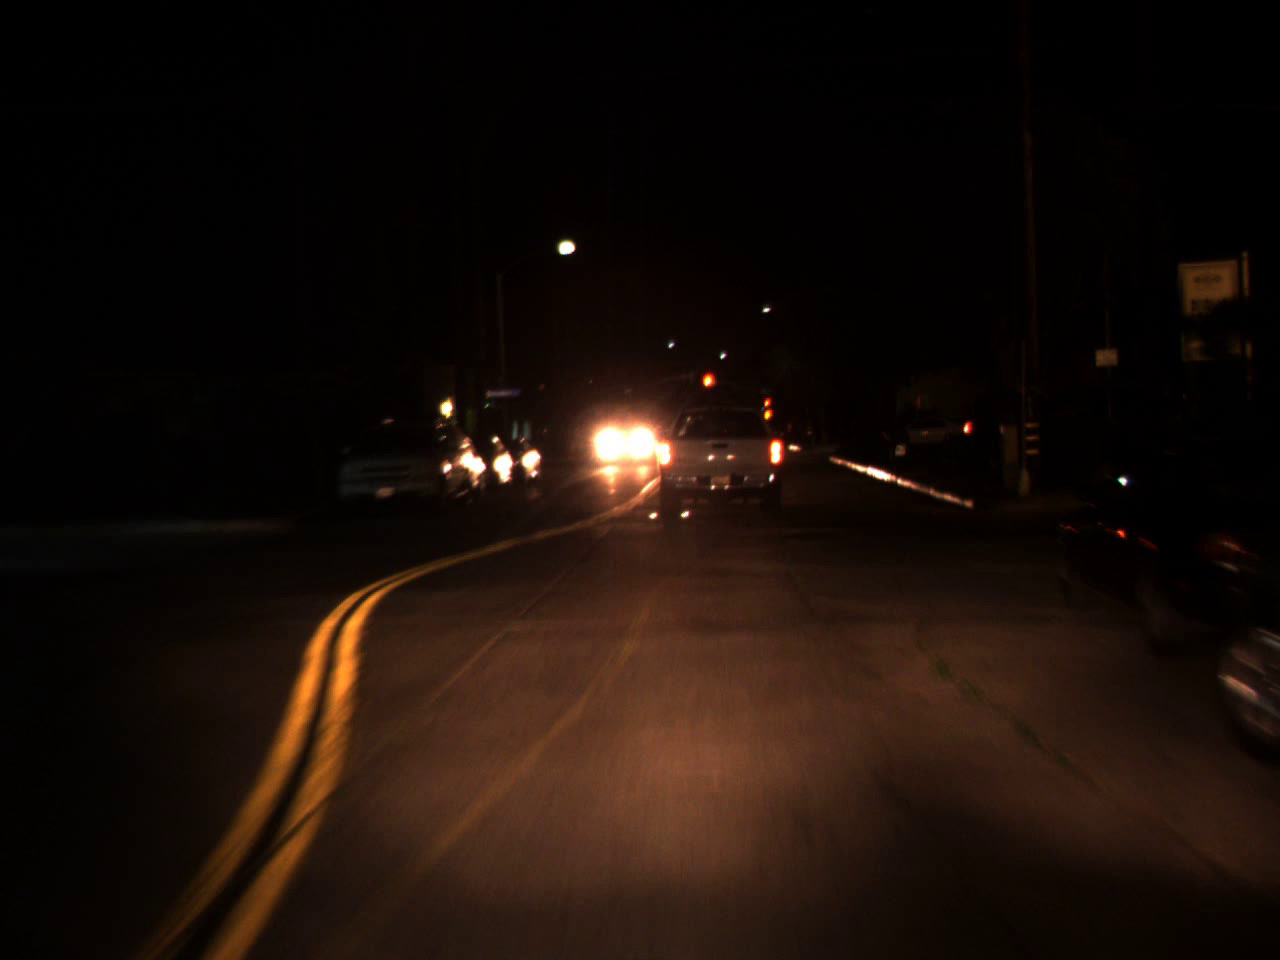stop: (700, 371, 716, 403), (763, 397, 770, 415)
